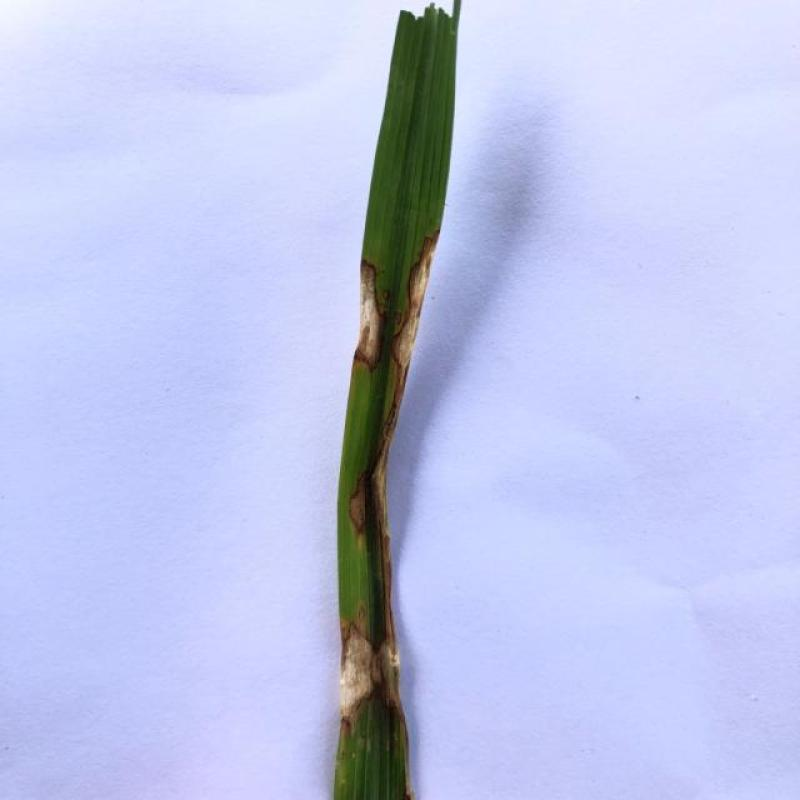Bacterial_Leaf_Blight: (354, 177, 438, 515), (322, 548, 422, 794)
